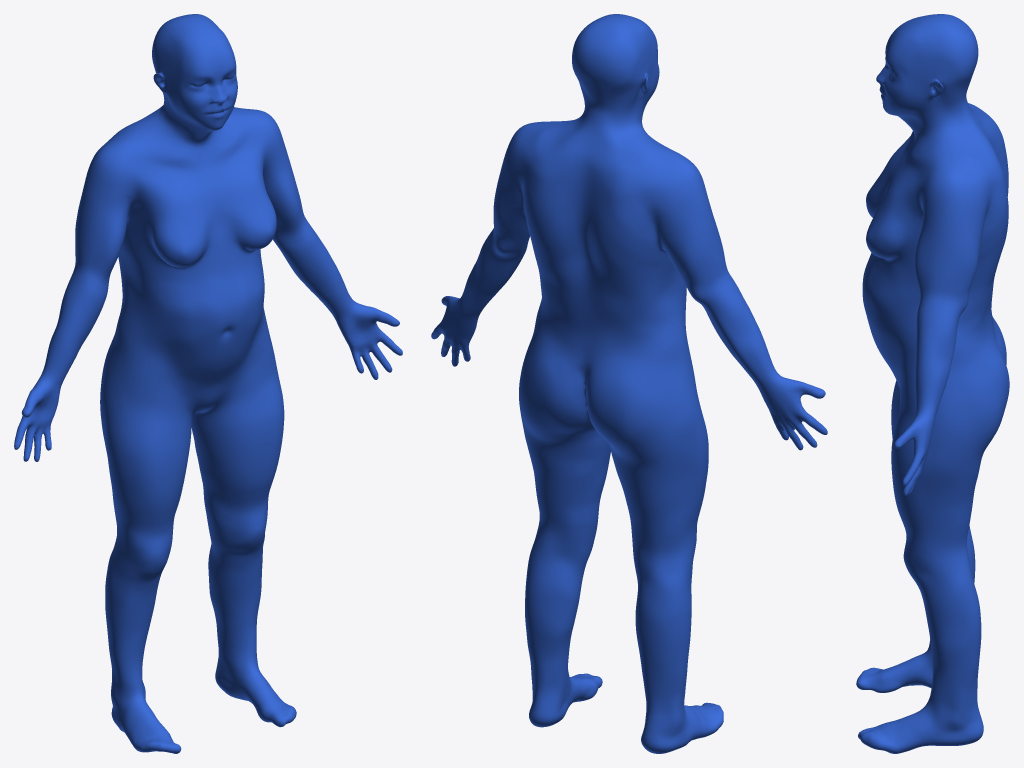
The model's file is 3d-vh-f-skin.glb.
3 views of the same model, side by side, from view 1: azimuth 30°, elevation 25°; view 2: azimuth 150°, elevation 25°; view 3: azimuth 270°, elevation 25° (orthographic).
Visible parts, largest first — view 1: VH_F_skin; view 2: VH_F_skin; view 3: VH_F_skin.
Boxes of the visible parts, x1,y1,x2,y2 form: VH_F_skin: [14, 14, 402, 753]; VH_F_skin: [431, 14, 827, 753]; VH_F_skin: [856, 14, 1009, 753].
Bounding box in the file's own units: 0.9674 × 1.67 × 0.3292.
